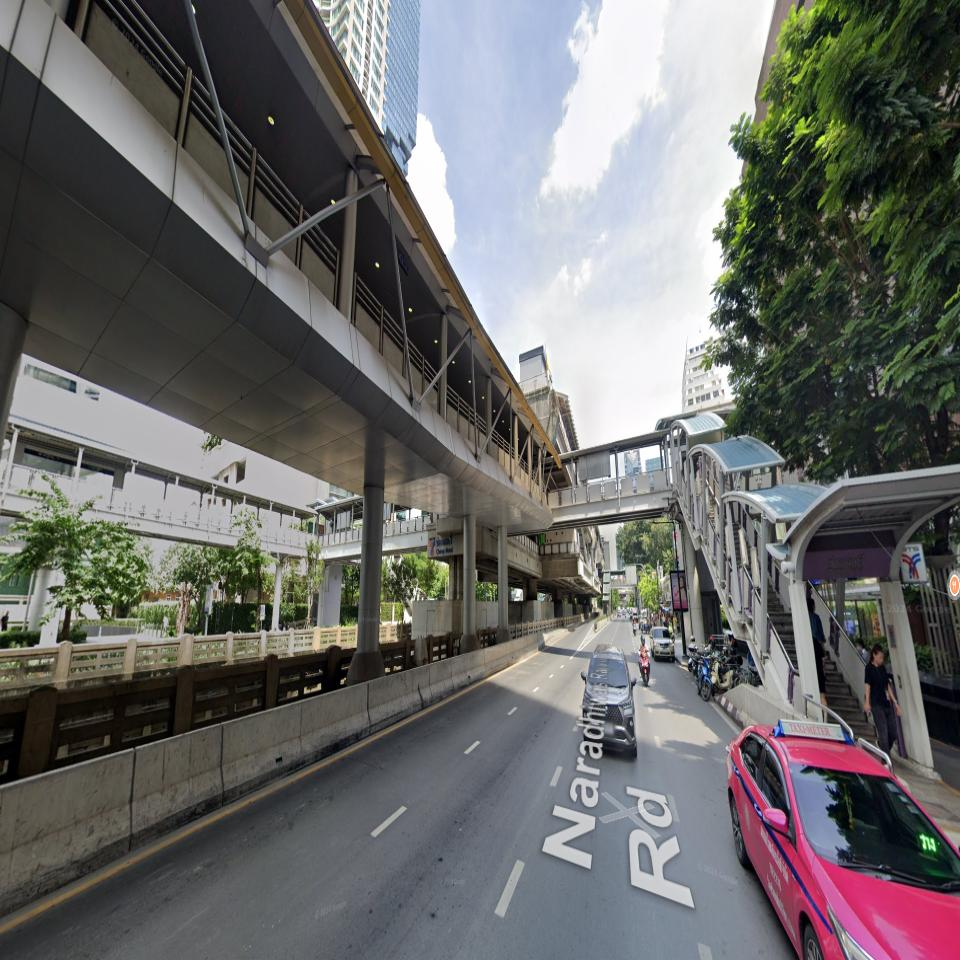signage: (804, 544, 928, 582), (803, 544, 895, 582), (429, 534, 453, 557), (436, 534, 453, 556)
